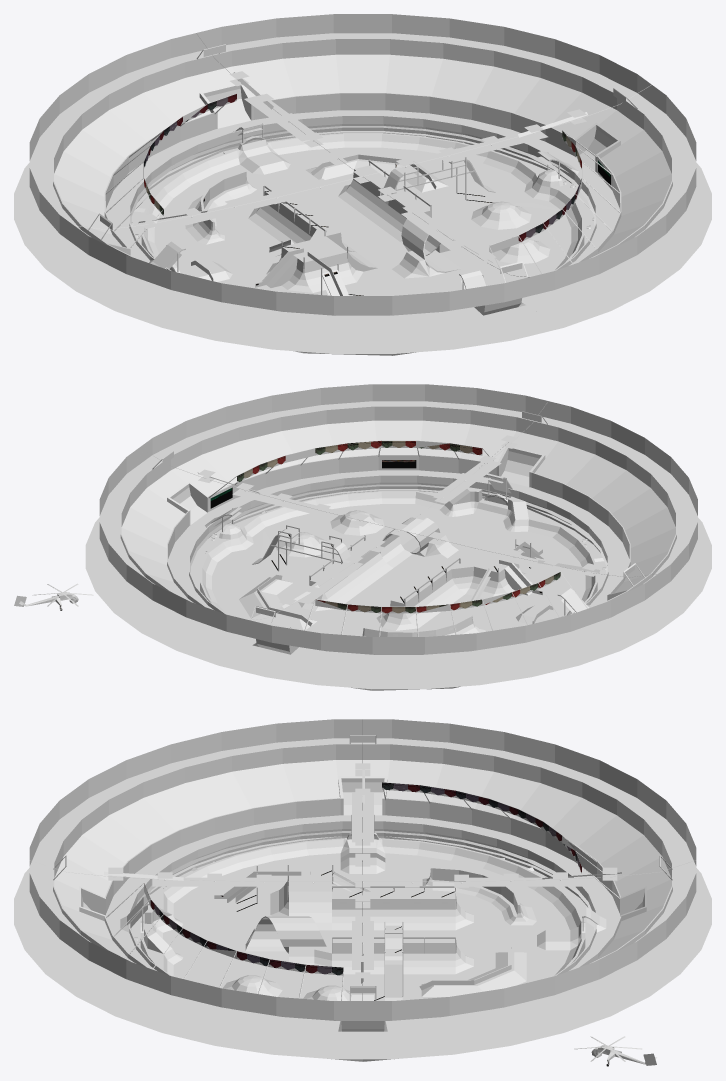
File: t2_bul.glb
3 renders of one model, top to bottom at view 1: azimuth 30°, elevation 25°; view 2: azimuth 150°, elevation 25°; view 3: azimuth 270°, elevation 25°, orthographic. The views are drawn at different scales.
Parts seen in each view (by area): view 1: SKBUL_Col_Floor, SKBUL_Col_Ride, SKBUL_Col_Pipe, SKBUL_Col_Wall, SKBUL_Mesh_04; view 2: SKBUL_Col_Floor, SKBUL_Col_Ride, SKBUL_Col_Pipe, SKBUL_Mesh_04, SKBUL_Col_Wall, SKBUL_Atlas; view 3: SKBUL_Col_Floor, SKBUL_Col_Ride, SKBUL_Col_Pipe, SKBUL_Col_Wall, SKBUL_Mesh_04.
Part boxes in pixels (x1=…): SKBUL_Col_Floor: x1=14, y1=33, x2=711, y2=355; SKBUL_Col_Ride: x1=29, y1=14, x2=696, y2=315; SKBUL_Col_Pipe: x1=46, y1=67, x2=643, y2=355; SKBUL_Col_Wall: x1=94, y1=44, x2=635, y2=287; SKBUL_Mesh_04: x1=144, y1=94, x2=581, y2=241; SKBUL_Col_Floor: x1=19, y1=401, x2=711, y2=690; SKBUL_Col_Ride: x1=99, y1=384, x2=697, y2=654; SKBUL_Col_Pipe: x1=167, y1=441, x2=655, y2=690; SKBUL_Mesh_04: x1=237, y1=441, x2=560, y2=613; SKBUL_Col_Wall: x1=14, y1=411, x2=640, y2=636; SKBUL_Atlas: x1=210, y1=460, x2=541, y2=604; SKBUL_Col_Floor: x1=14, y1=719, x2=711, y2=1064; SKBUL_Col_Ride: x1=29, y1=719, x2=696, y2=1031; SKBUL_Col_Pipe: x1=14, y1=760, x2=711, y2=1061; SKBUL_Col_Wall: x1=30, y1=735, x2=695, y2=1066; SKBUL_Mesh_04: x1=150, y1=782, x2=581, y2=975.
Size of the model in its own units: 150 by 24.88 by 150.
20 materials, 18 textured.
